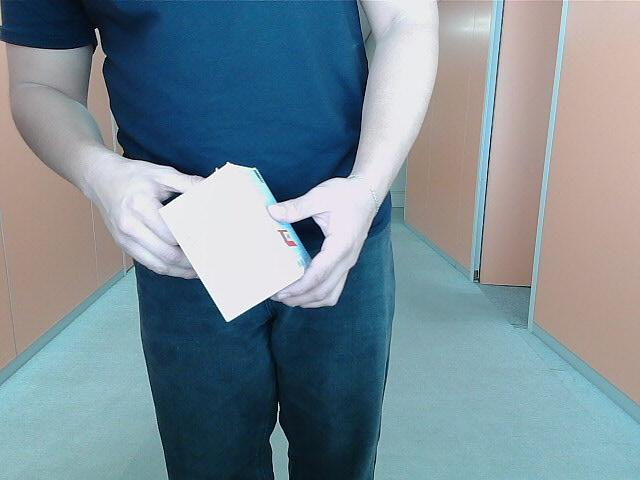Blind_box: (149, 163, 329, 318)
